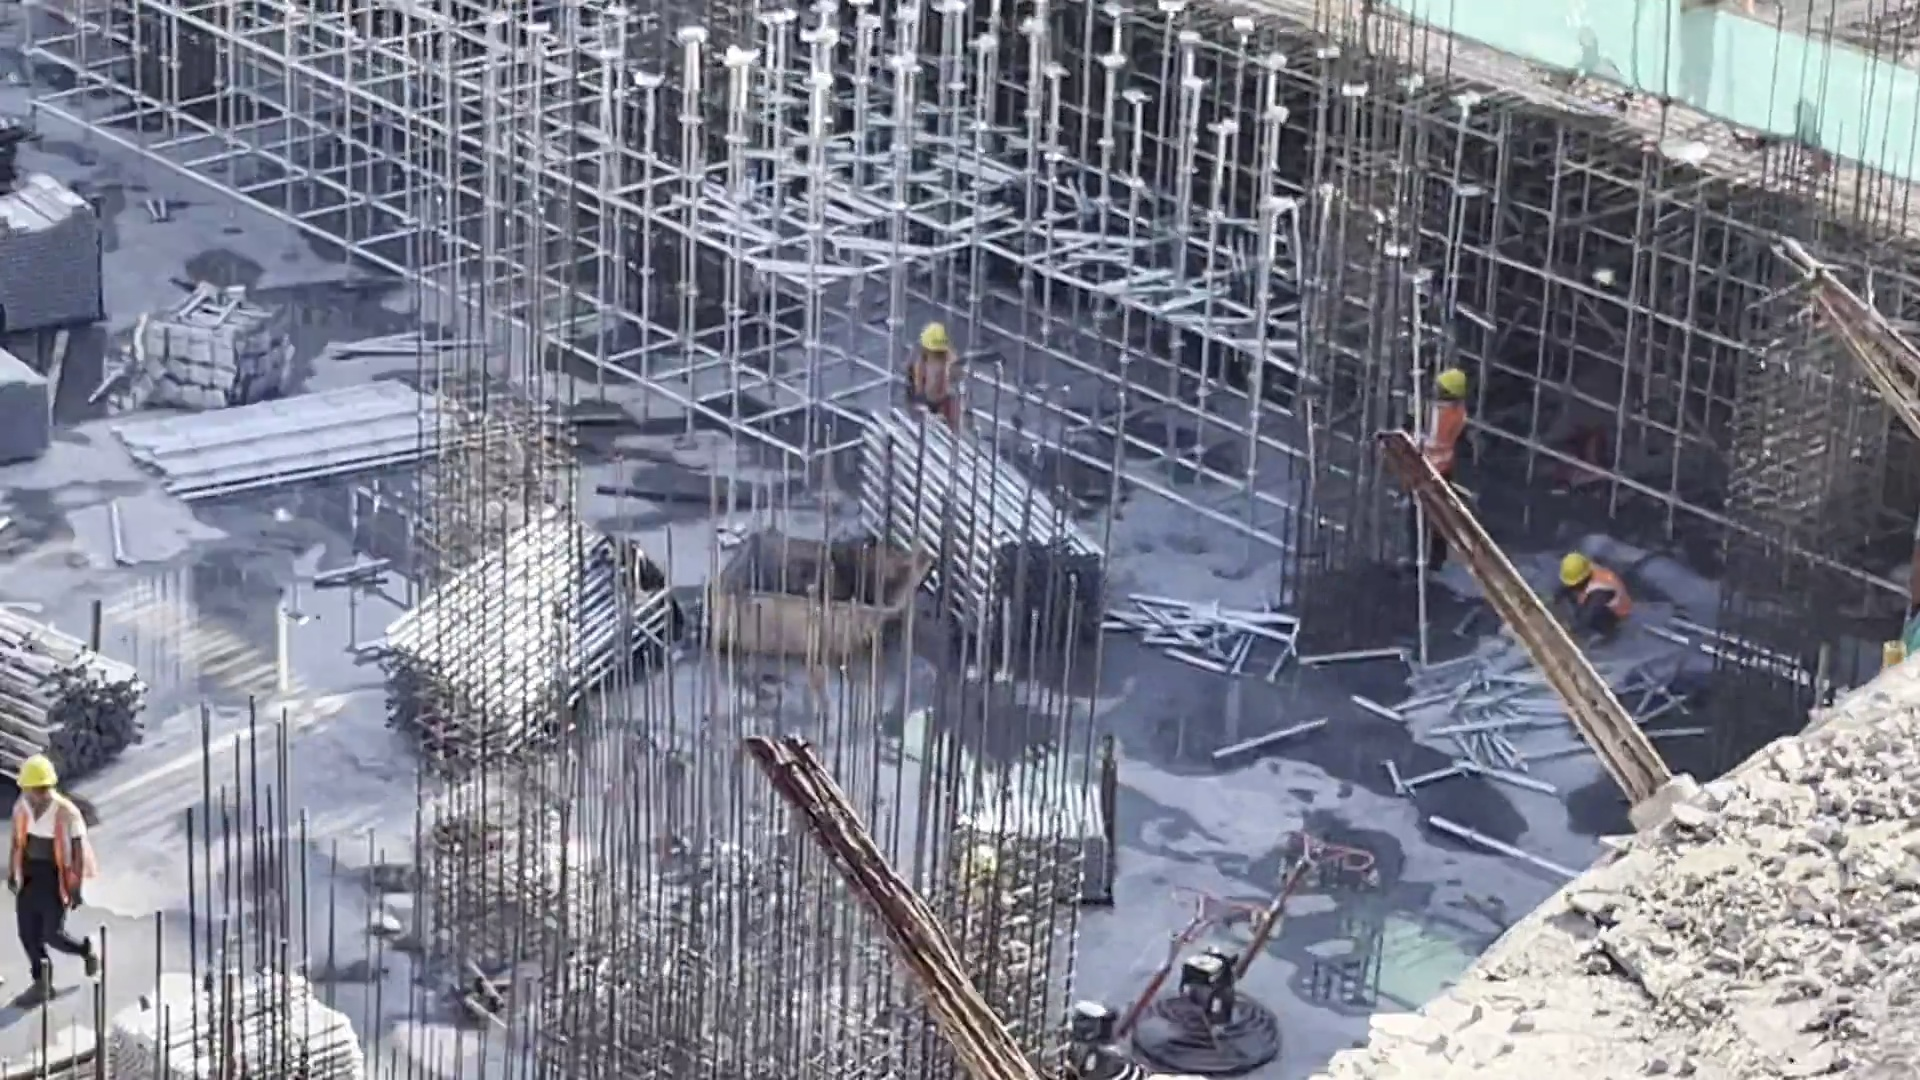helmet: (16, 758, 58, 800), (1559, 546, 1598, 585), (916, 321, 951, 353), (1433, 365, 1460, 400)
hopper: (741, 536, 933, 668)
person: (1, 757, 109, 1010), (1404, 361, 1471, 574), (1551, 538, 1647, 650), (893, 322, 977, 441)
scaffold: (896, 436, 1083, 655), (401, 548, 615, 740), (137, 383, 465, 487), (1, 628, 142, 767), (124, 1001, 347, 1080), (964, 763, 1097, 883), (1, 189, 113, 325)
vest: (12, 792, 84, 910), (1412, 402, 1465, 473), (907, 364, 963, 421), (1582, 576, 1632, 629)
